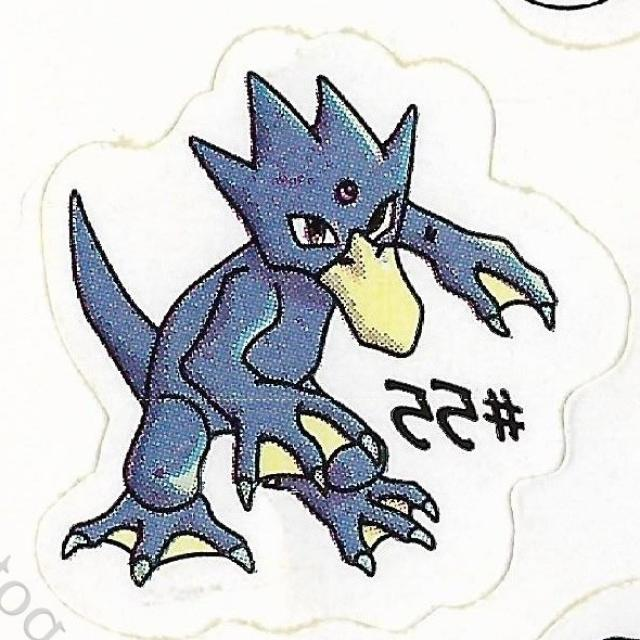Golduck: (41, 70, 573, 597)
